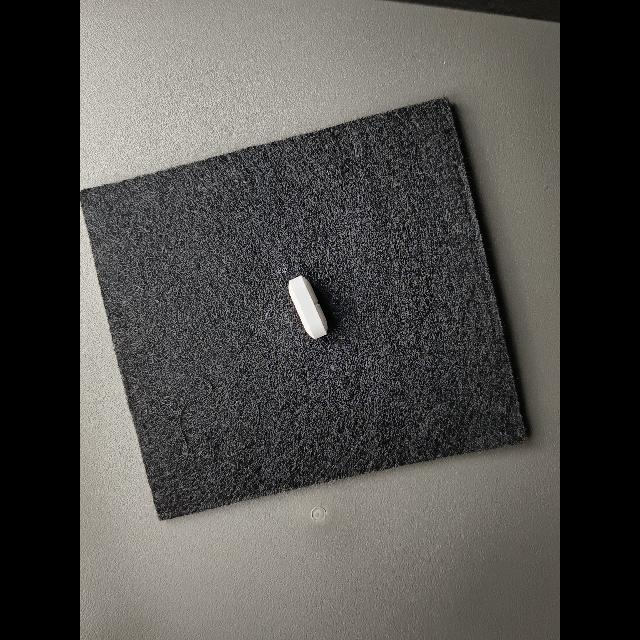Intact Pill: (288, 275, 328, 340)
